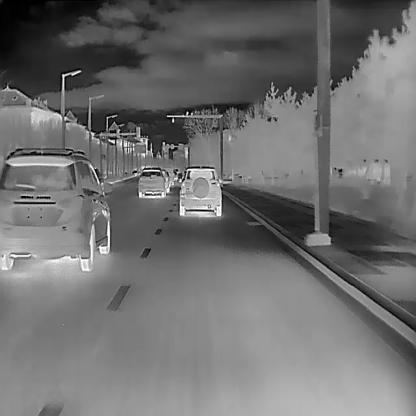car: (0, 145, 110, 270), (177, 164, 222, 215), (138, 165, 166, 197), (161, 168, 170, 193)
